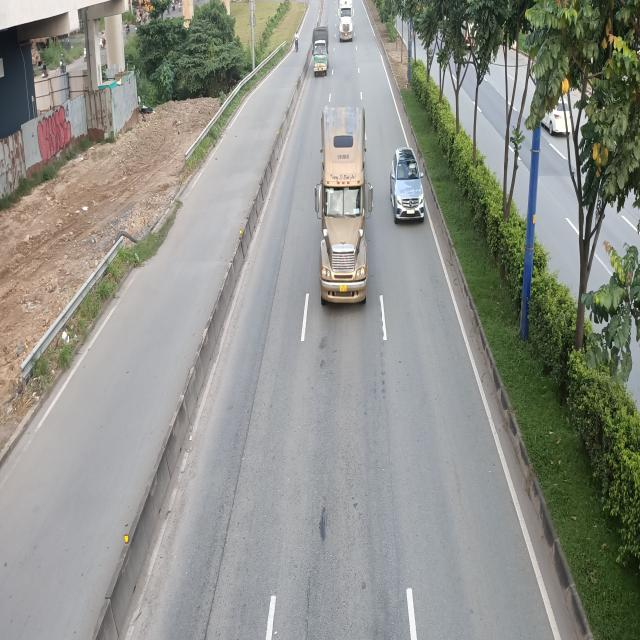car: (392, 148, 427, 224)
container: (315, 106, 372, 307), (338, 0, 355, 42)
truck: (313, 25, 330, 76)
